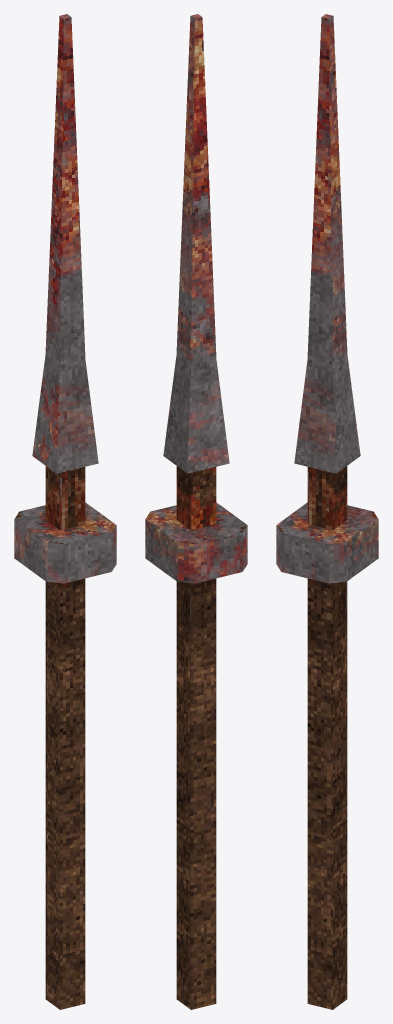
File: Spike_2.gltf
3 views of the same model, side by side, from view 1: azimuth 30°, elevation 25°; view 2: azimuth 210°, elevation 25°; view 3: azimuth 330°, elevation 25° (orthographic).
Parts seen in each view (by area): view 1: Spike_2; view 2: Spike_2; view 3: Spike_2.
Part boxes in pixels (x1,y1,x2,y2): Spike_2: (14, 14, 116, 1009); Spike_2: (145, 14, 247, 1009); Spike_2: (276, 14, 378, 1009).
Size of the model in its own units: 0.6431 by 8.58 by 0.7058.
1 material, 1 textured.
